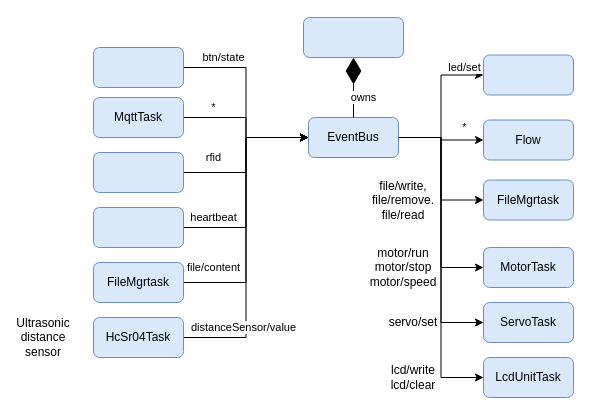
Some shapes in this 591 by 415 pixel diagram are drawn without their labels. Here are the shapes that lost their labels. From the top down, the centre of each, then its label:
(x=353, y=37): GlobalProperties
(x=138, y=67): ButtonTask
(x=528, y=74): LedTask
(x=138, y=172): RfidTask
(x=138, y=227): HeartbeatTask
